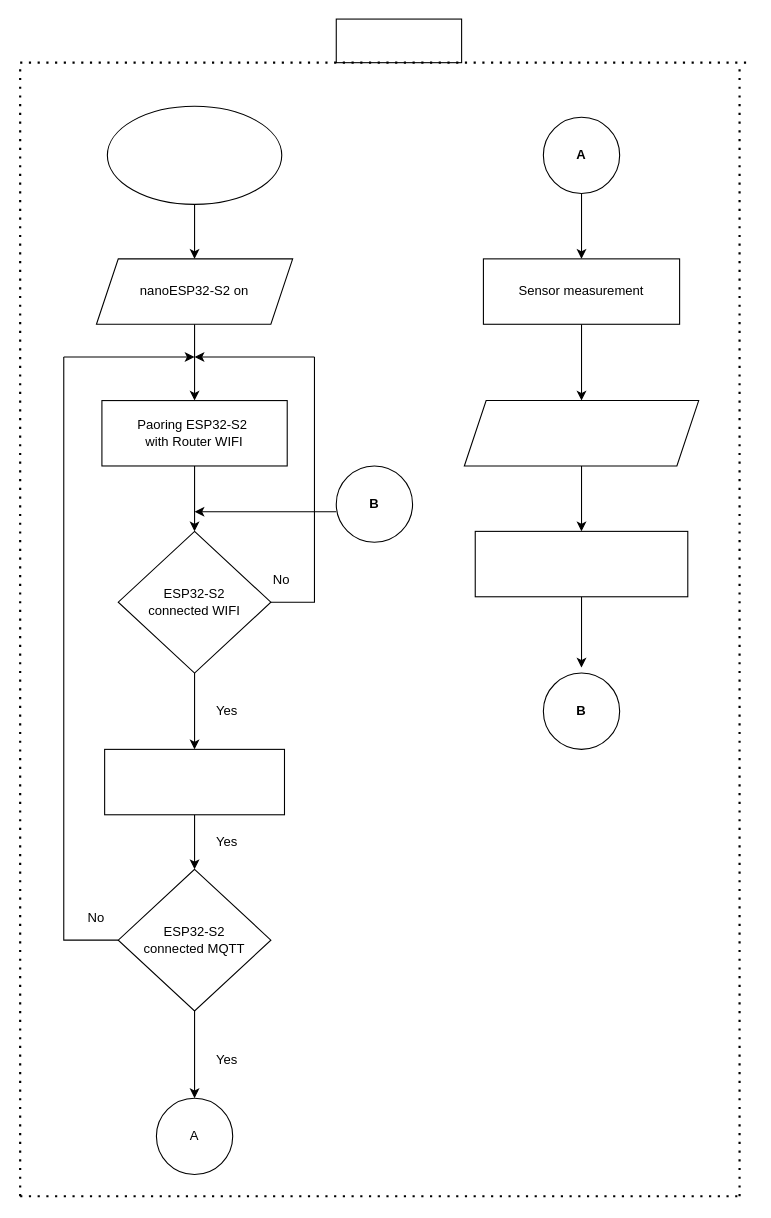
The diagram is 771 pixels wide and 1218 high, and some of its shapes have lost their labels. Each missing label, with the box of its shape:
Delay: (474, 530, 688, 597)
Pairing ESP32-S2 with MQTT: (104, 748, 284, 815)
Send sensor measurement data to MQTT broker: (463, 399, 699, 466)
Start: (106, 105, 282, 204)
While loop: (335, 18, 462, 63)
